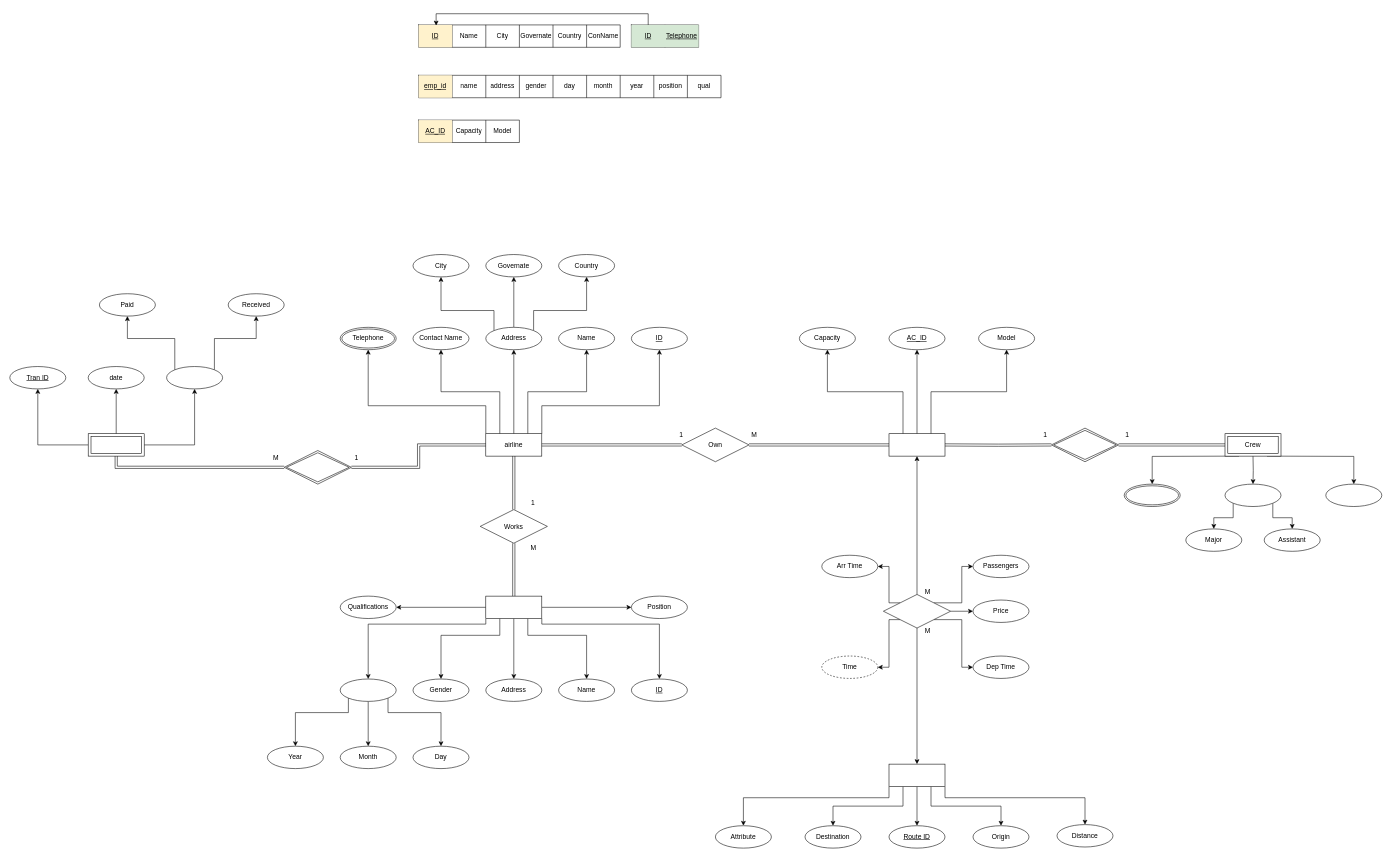
The diagram is 1392 pixels wide and 858 high, and some of its shapes have lost their labels. Each missing label, with the centre of its shape:
"Aircraft" belongs at [916,444].
"Amount" belongs at [194,377].
"Assigned" belongs at [917,611].
"Birth Date" belongs at [368,689].
"Crew ID" belongs at [1353,495].
"Employee" belongs at [513,607].
"Has" belongs at [1085,445].
"Hostess" belongs at [1152,495].
"Pilot" belongs at [1252,495].
"Record" belongs at [317,467].
"Route" belongs at [916,775].
"Transaction" belongs at [116,444].
